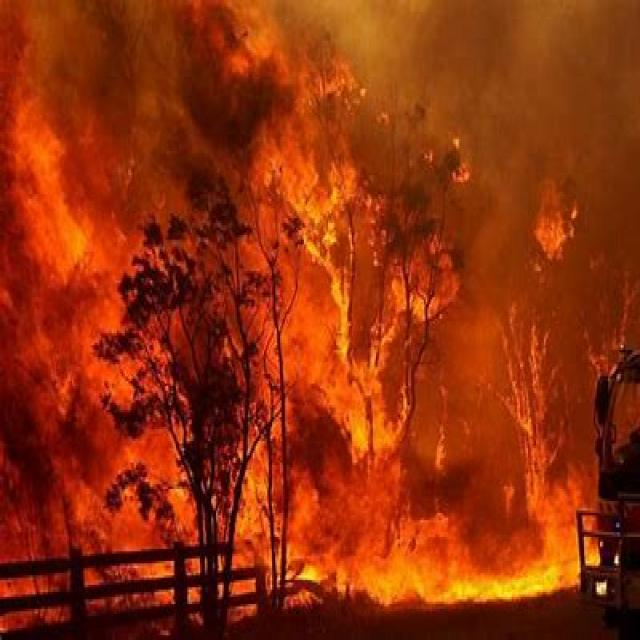fire: (264, 84, 448, 440), (9, 146, 152, 581), (231, 456, 579, 596)
